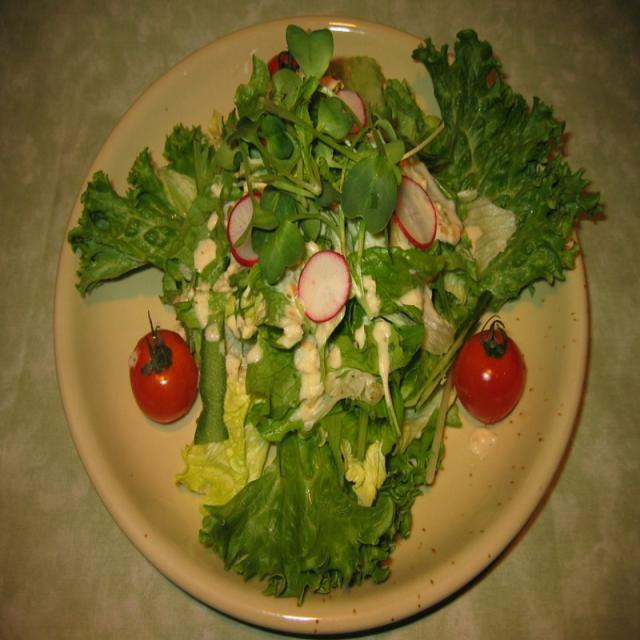Green Salad: (52, 17, 604, 636)
